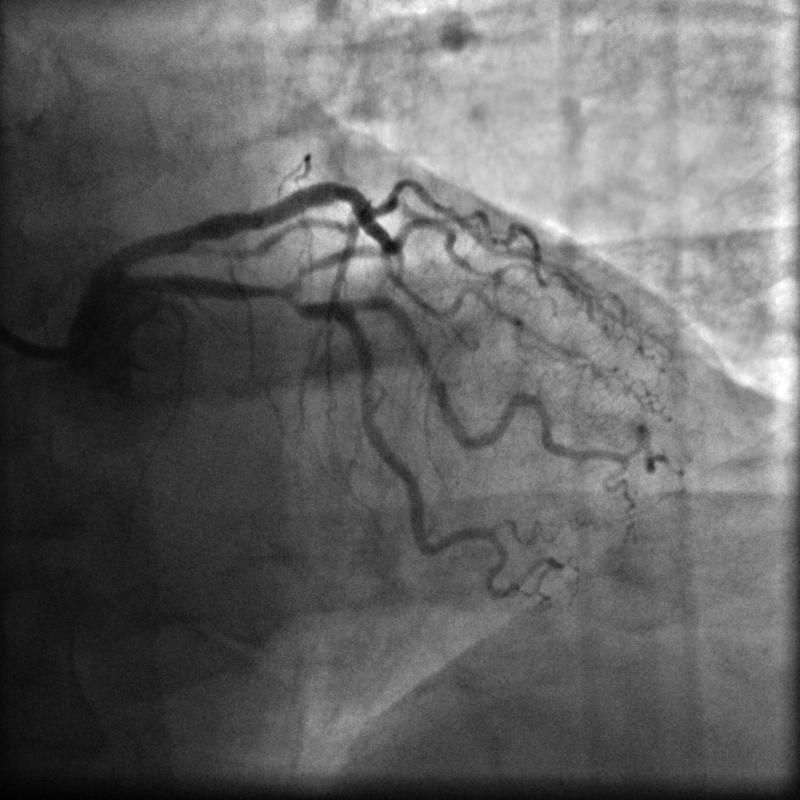Stenosis: (253, 277, 302, 305)
